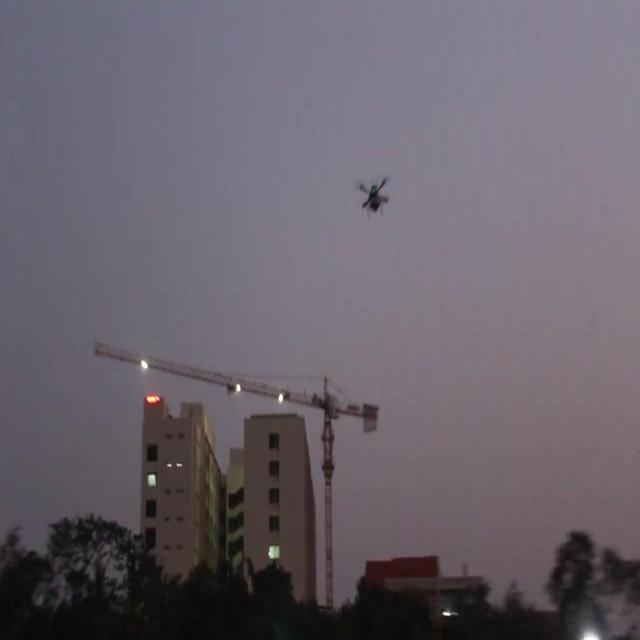UAV: (358, 176, 390, 220)
